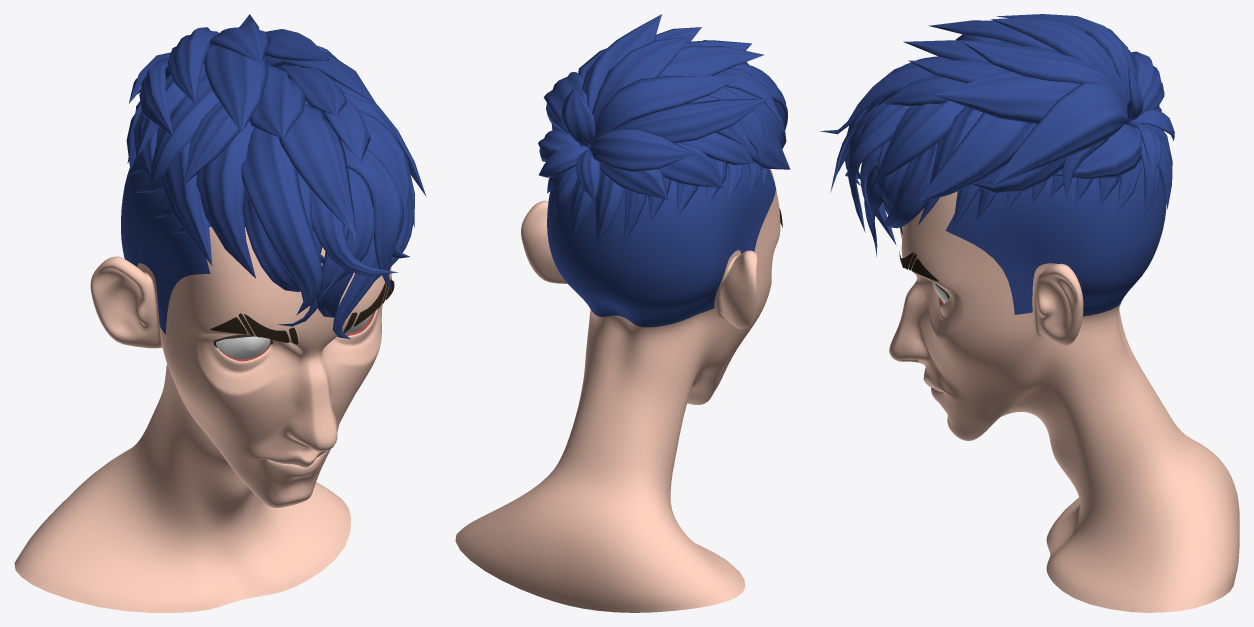
File: peder2.glb
3 renders of one model, left to right at view 1: azimuth 30°, elevation 25°; view 2: azimuth 150°, elevation 25°; view 3: azimuth 270°, elevation 25°, orthographic. The views are drawn at different scales.
Visible parts, largest first — view 1: face retopo.013, hair.006, eyebrows.007, eyeBall.R.007; view 2: face retopo.013, hair.006; view 3: face retopo.013, hair.006.
Boxes of the visible parts, x1=… form: face retopo.013: x1=14, y1=157, x2=391, y2=612; hair.006: x1=126, y1=14, x2=426, y2=338; eyebrows.007: x1=210, y1=279, x2=394, y2=344; eyeBall.R.007: x1=216, y1=336, x2=270, y2=359; face retopo.013: x1=455, y1=164, x2=780, y2=612; hair.006: x1=538, y1=14, x2=790, y2=243; face retopo.013: x1=889, y1=158, x2=1239, y2=612; hair.006: x1=819, y1=14, x2=1174, y2=256.
Bounding box in the file's own units: 7 × 12.04 × 8.48.
